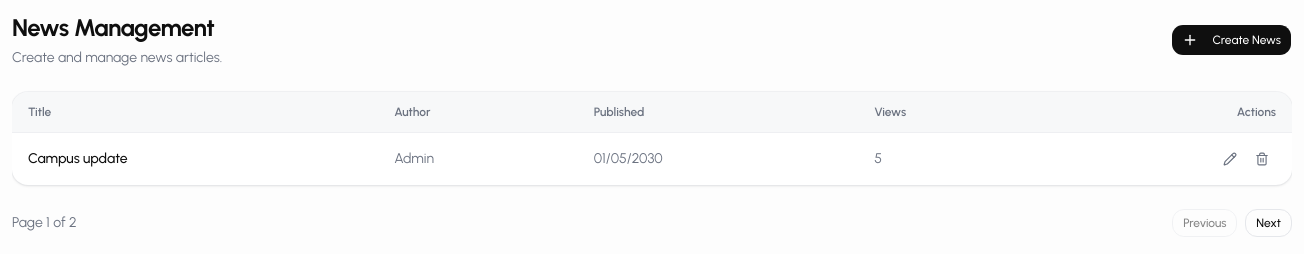
Test: admin news route › fetches the next page when pagination controls are used
Step 1. Click the button "Next" → {"x": 1269, "y": 223}, box [1245,209,1292,237]
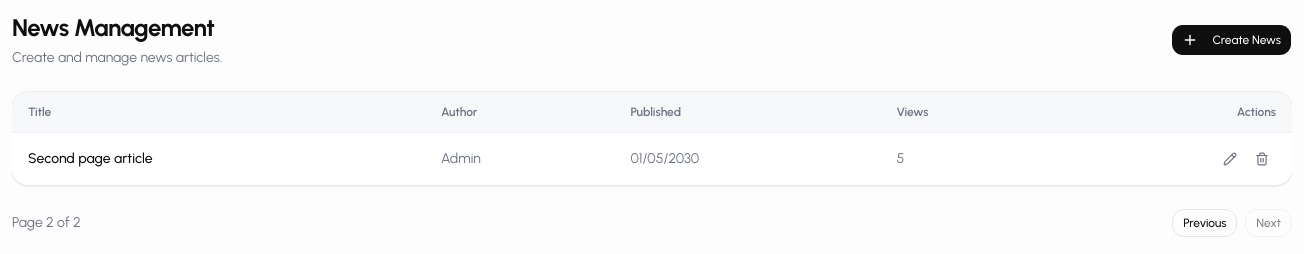
Result: the text "Second page article" is shown at [12,132,425,185]
